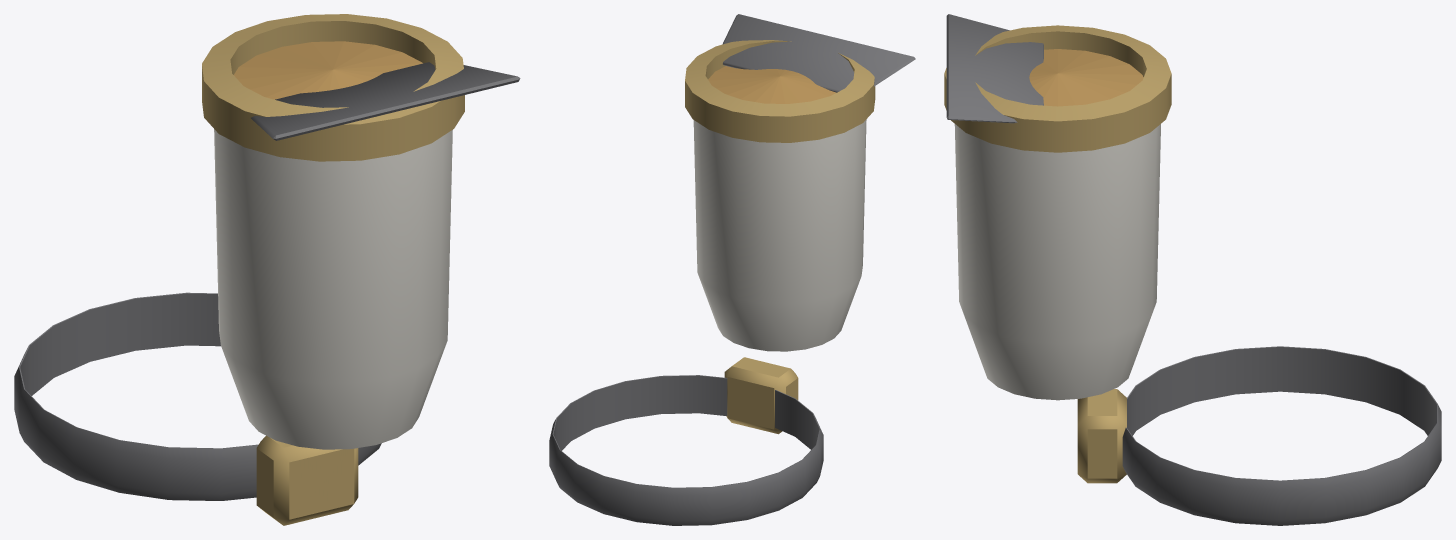
The model's file is Kit_Active_Searchlight.glb.
3 views of the same model, side by side, from view 1: azimuth 30°, elevation 25°; view 2: azimuth 150°, elevation 25°; view 3: azimuth 270°, elevation 25° (orthographic). The views are drawn at different scales.
Parts seen in each view (by area): view 1: Kit_Active_Searchlight; view 2: Kit_Active_Searchlight; view 3: Kit_Active_Searchlight.
Part boxes in pixels (left/top/right/bottom): Kit_Active_Searchlight: left=14, top=14, right=520, bottom=525; Kit_Active_Searchlight: left=549, top=14, right=915, bottom=525; Kit_Active_Searchlight: left=944, top=14, right=1441, bottom=525.
Size of the model in its own units: 0.132 by 0.1809 by 0.2013.
